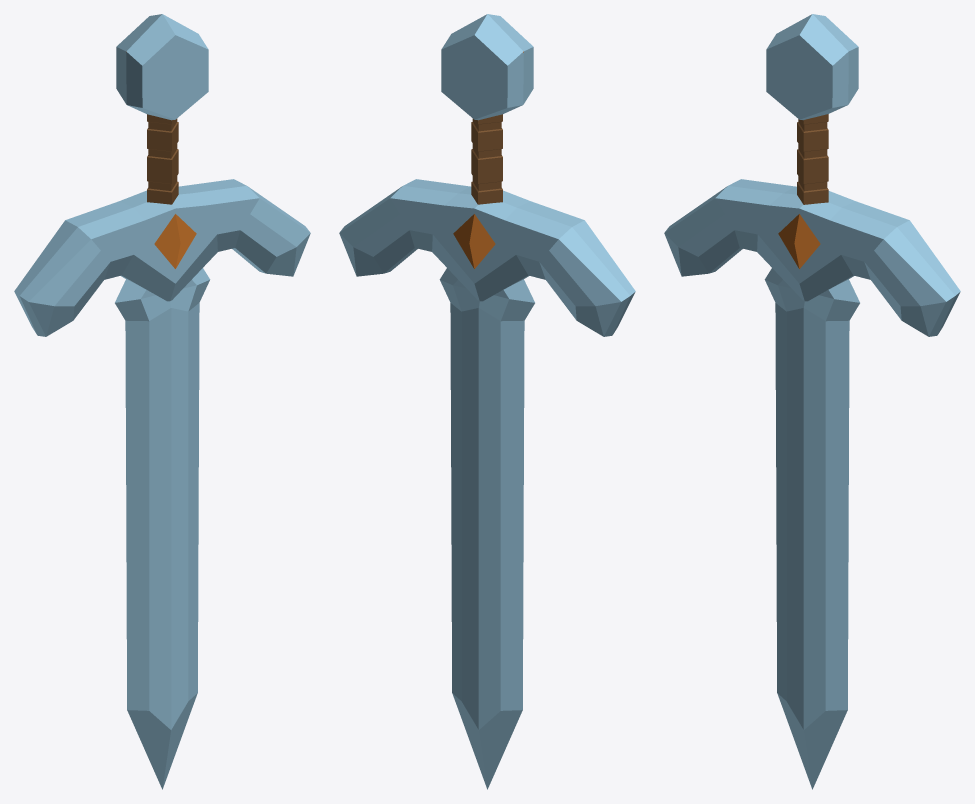
The model's file is sword.glb.
3 views of the same model, side by side, from view 1: azimuth 30°, elevation 25°; view 2: azimuth 150°, elevation 25°; view 3: azimuth 330°, elevation 25° (orthographic).
Visible parts, largest first — view 1: Cube; view 2: Cube; view 3: Cube.
Part boxes in pixels (box(x1,y1,x2,y2)): Cube: box(14, 14, 310, 789); Cube: box(339, 14, 635, 789); Cube: box(664, 14, 960, 789).
Size of the model in its own units: 1.79 by 4.65 by 0.3925.
Materials: 1 (1 with a texture image).
